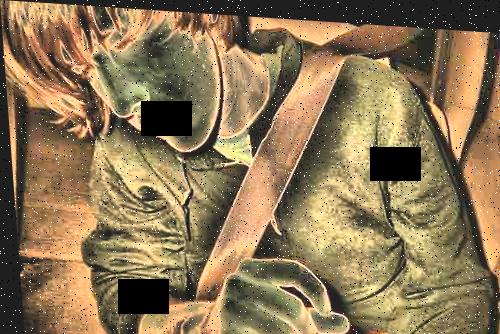seatbelt: (170, 46, 365, 295)
